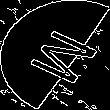M_SE: (13, 22, 97, 88)
